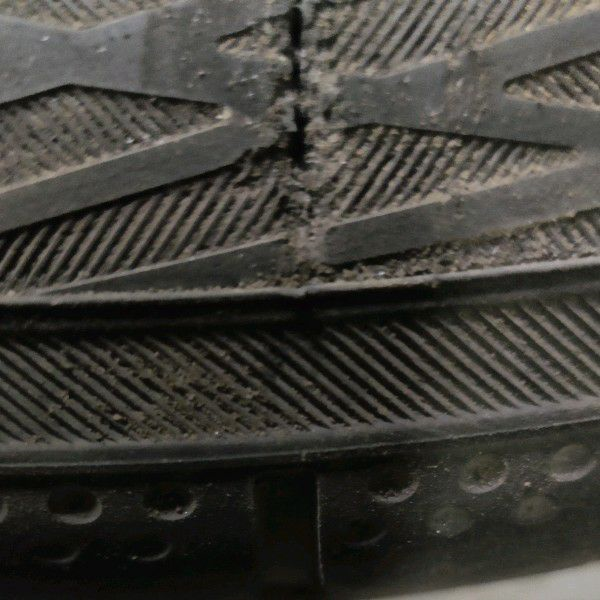cut: (231, 4, 329, 247)
